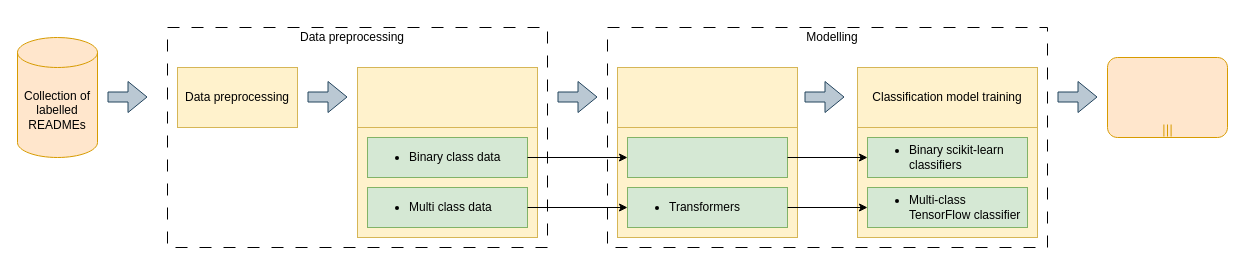
The diagram is 1245 pixels wide and 265 high, and some of its shapes have lost their labels. The box of each missing label's shape, as (x1, y1, x2, y2) in pixels:
Bag-of-words: (626, 136, 788, 178)
Classification model: (1106, 56, 1228, 138)
Data balancing: (356, 66, 538, 128)
Vectorization: (616, 66, 798, 128)
